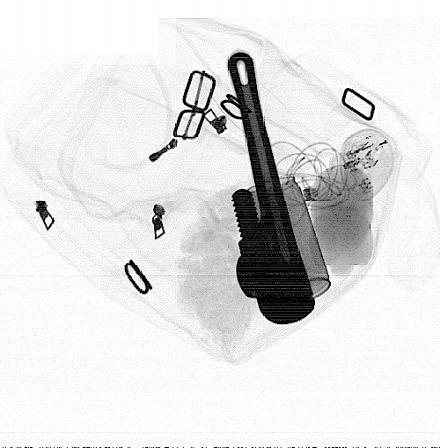Wrench: (226, 49, 316, 326)
